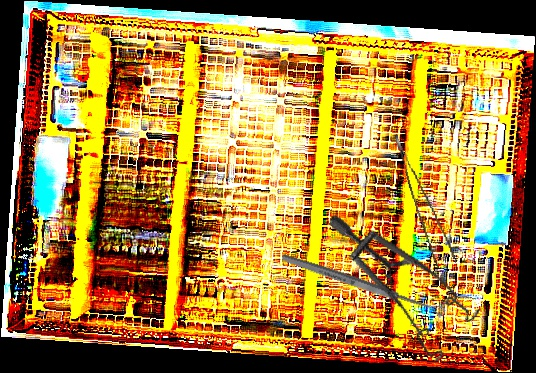Speculum: (300, 212, 495, 373)
Surgical Spoon: (280, 251, 447, 319)
Tissue Forceps: (394, 127, 457, 271)
